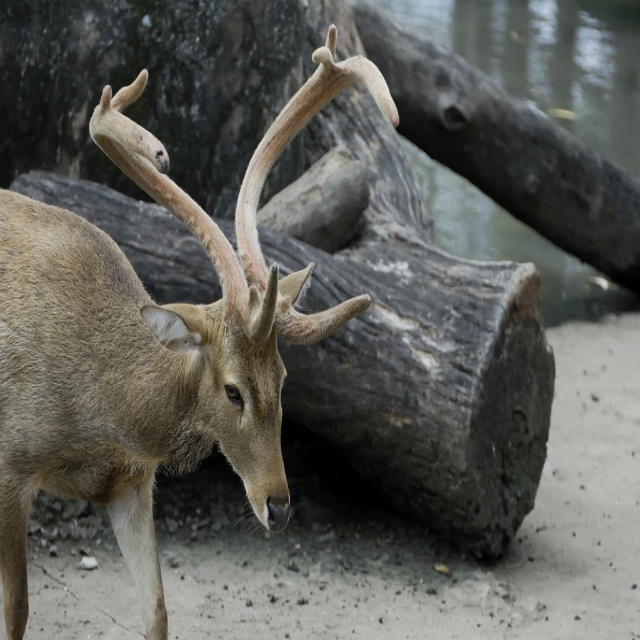Deer: (0, 24, 400, 640)
